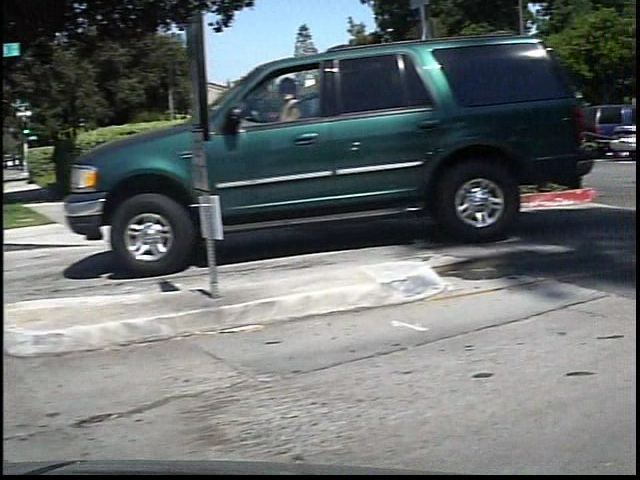car: (64, 4, 630, 275)
